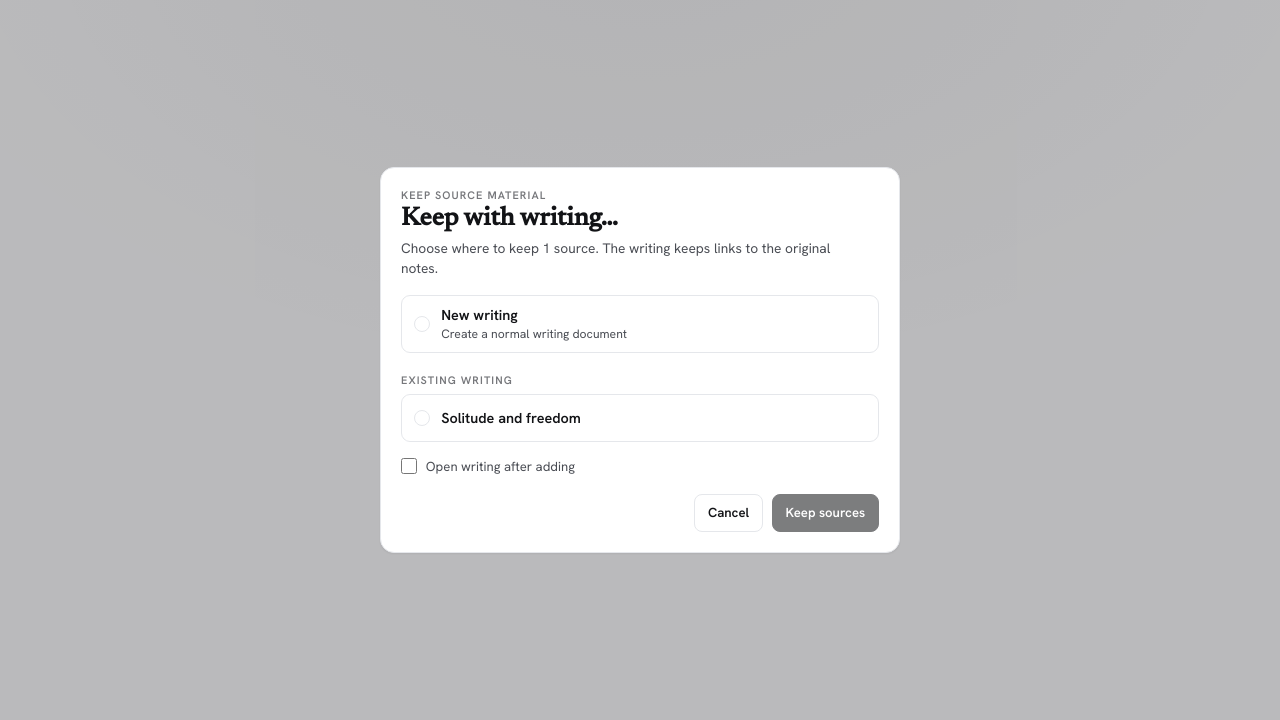
BrainWritingHandoffComponent › requires an explicit destination and excludes folders
Expected: the button "Keep sources" is disabled, [772,494,879,532]
Click the button with class "existing" at (511, 418), box [401,394,879,442]
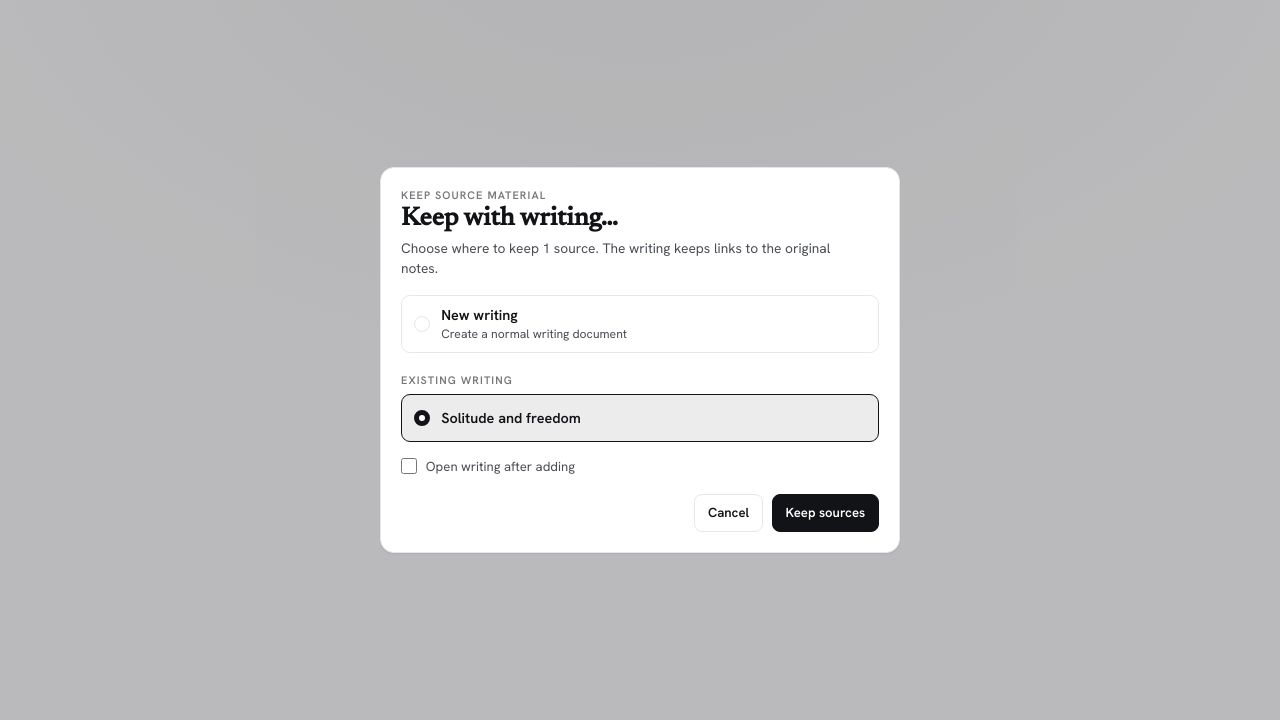
Expected: the button "Keep sources" is enabled, [772,494,879,532]
